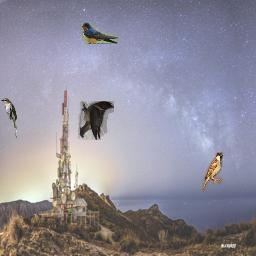Cuckoo: (1, 98, 17, 138)
Sparrow: (202, 152, 223, 192)
Swallow: (78, 101, 114, 140), (81, 22, 118, 44)
